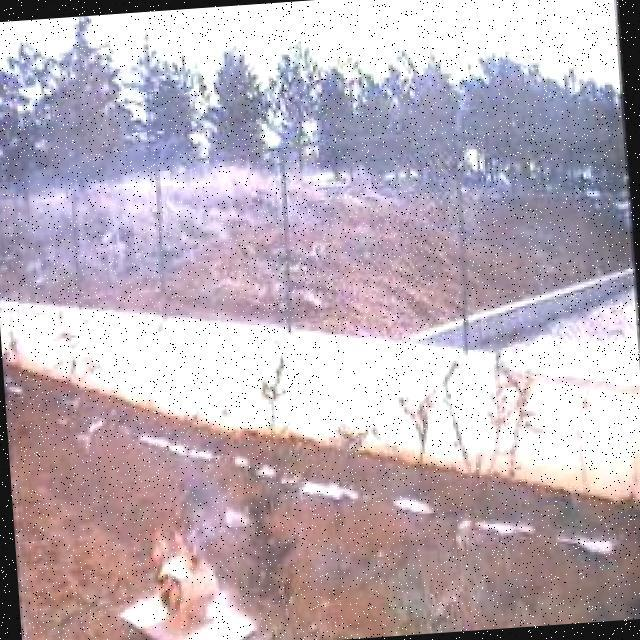Fire: (142, 485, 230, 638)
